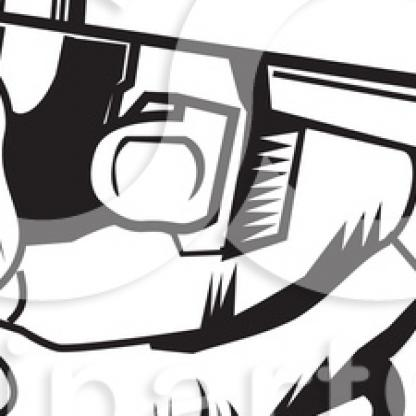gun: (0, 0, 414, 306)
